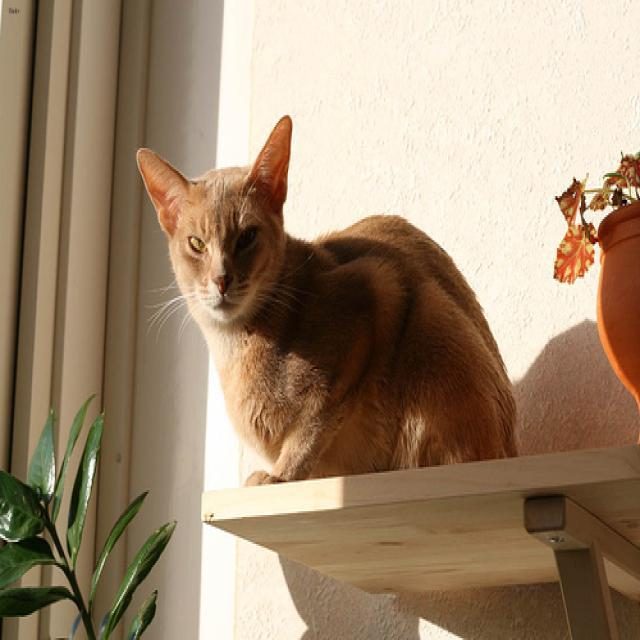Abyssinian: (135, 113, 290, 321)
